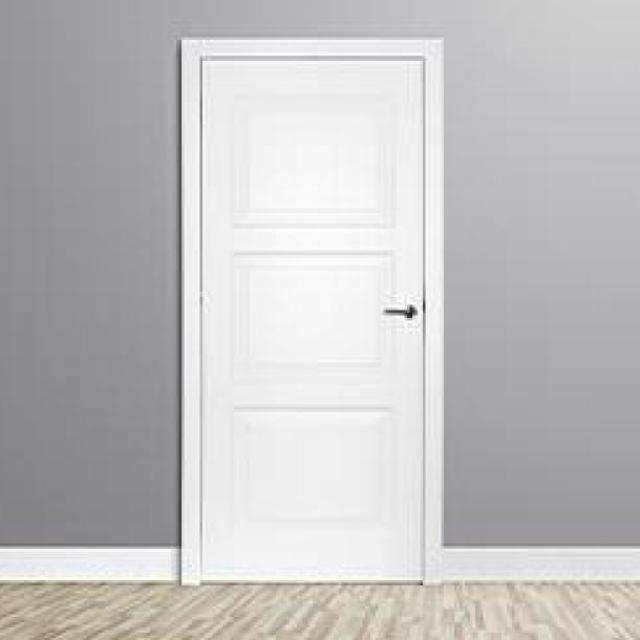door: (182, 39, 430, 585)
